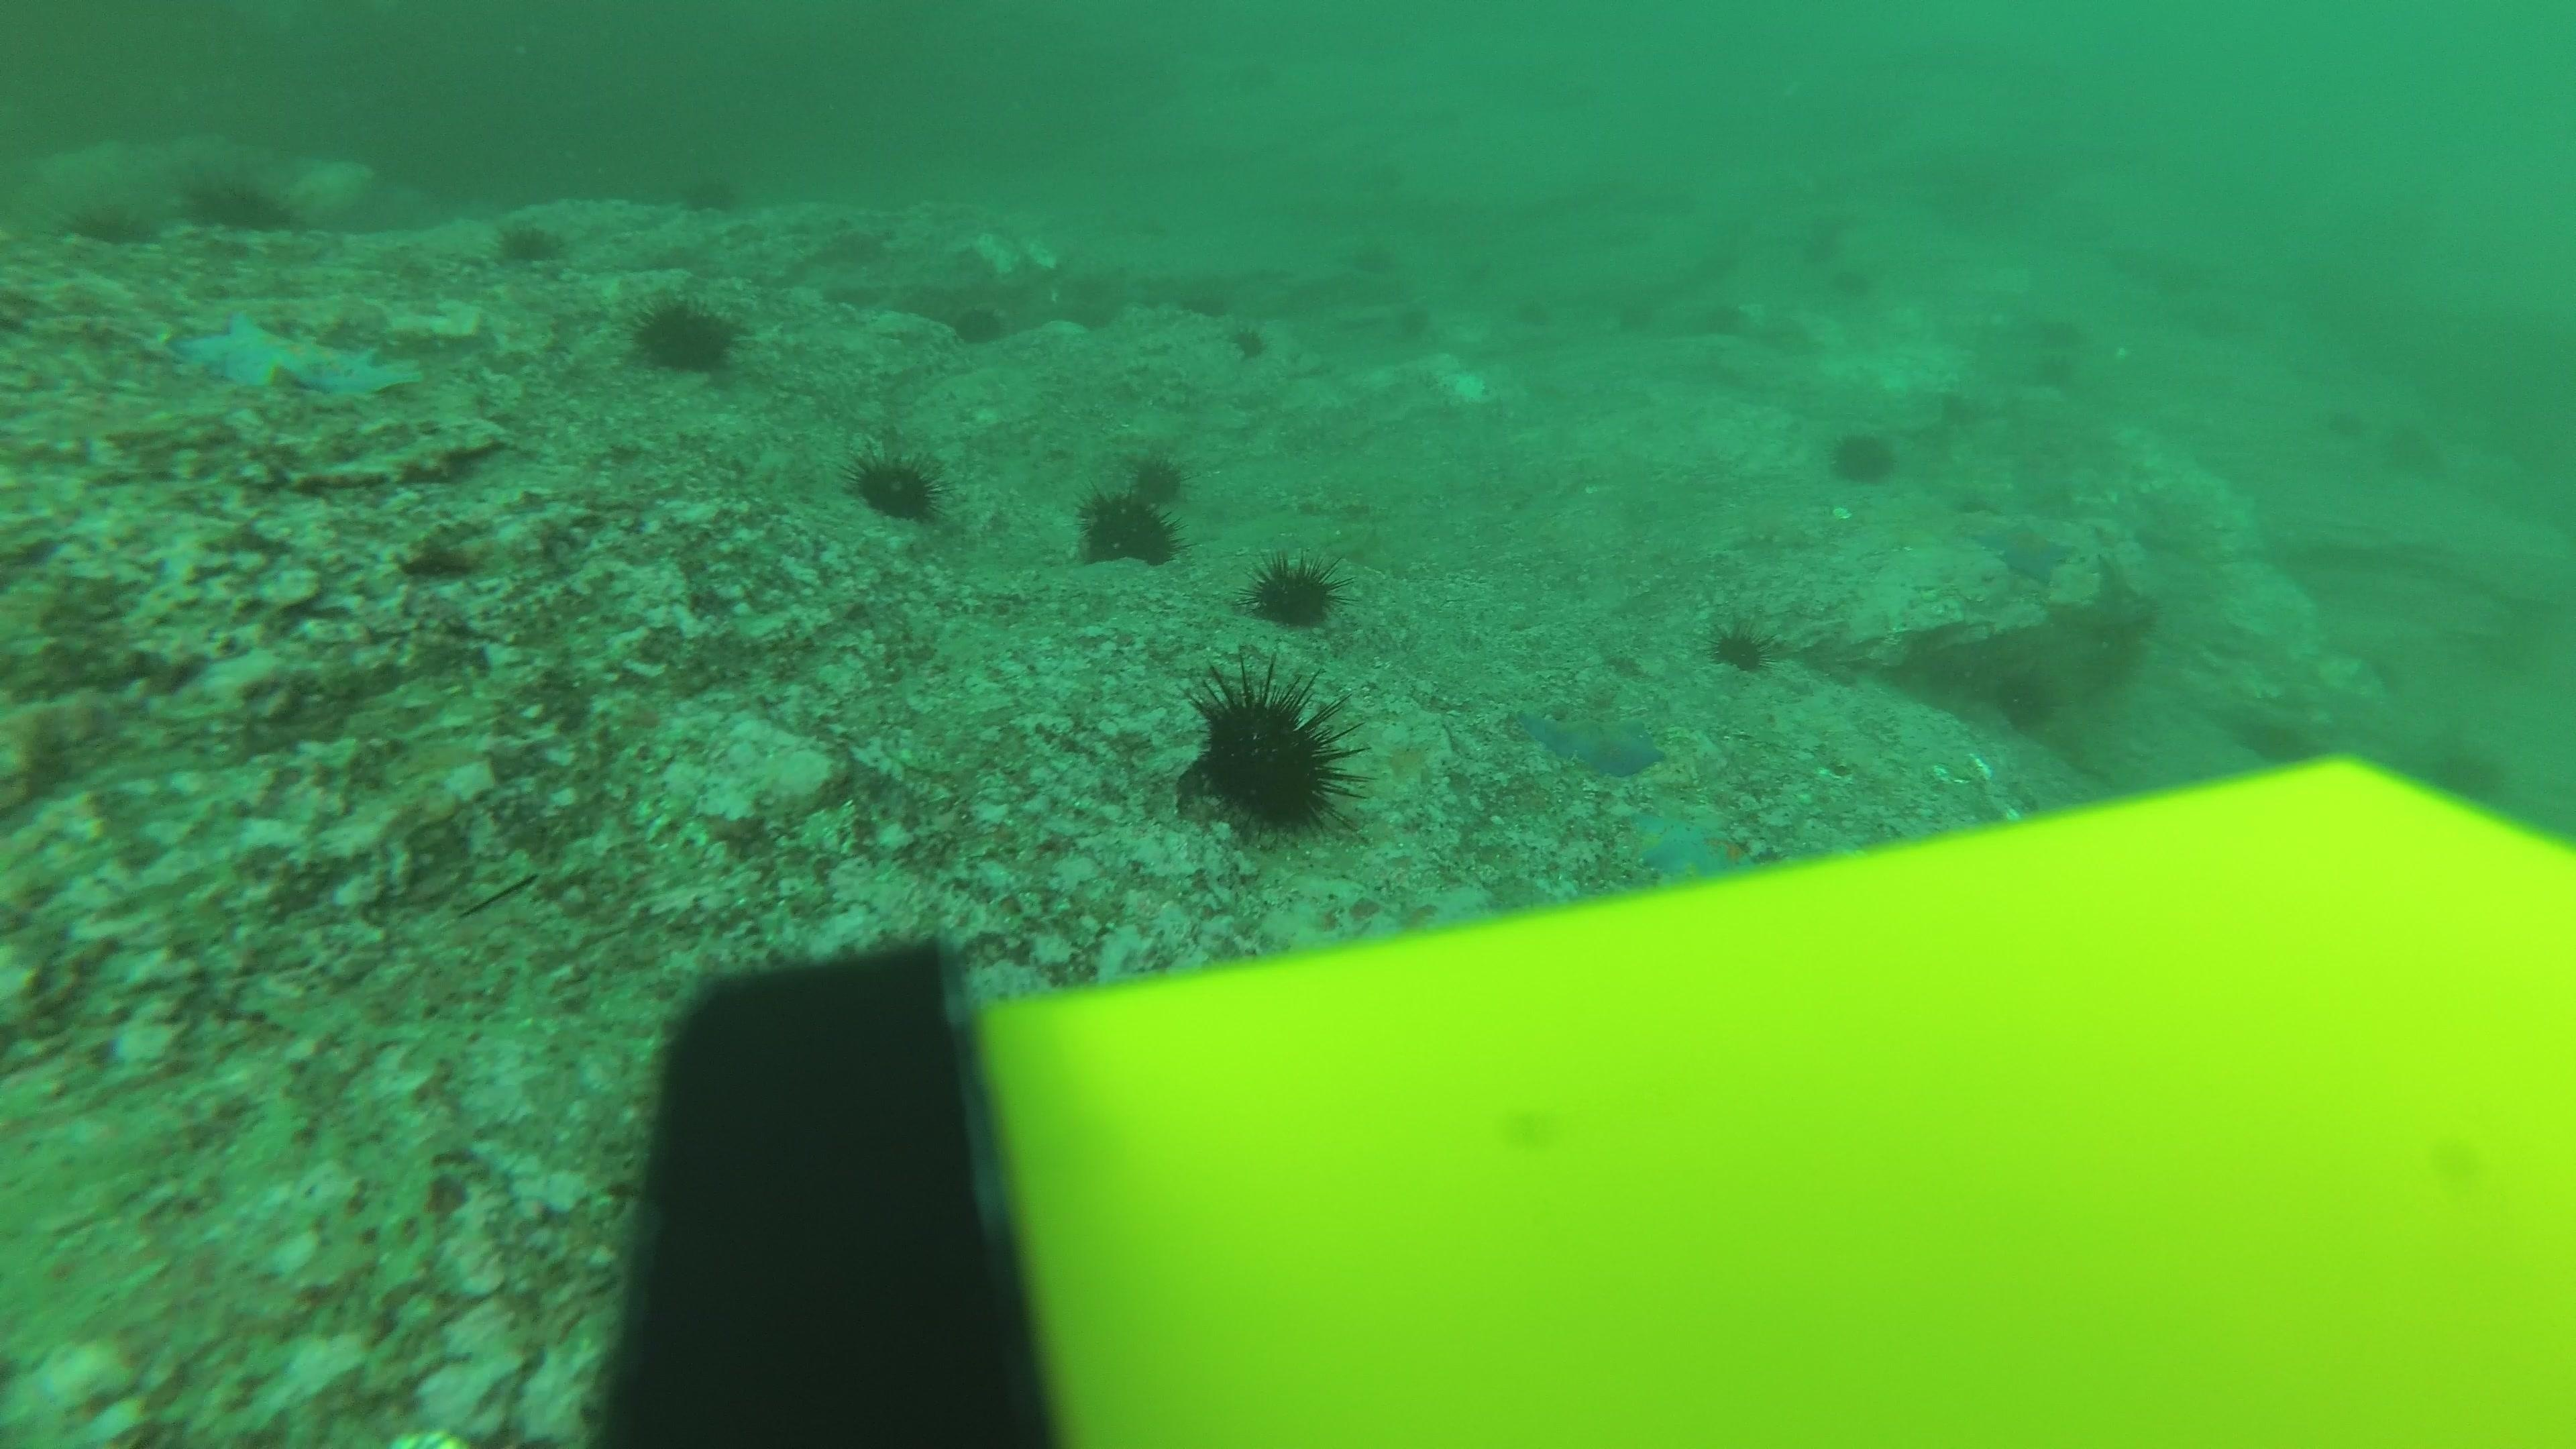echinus: (1182, 663, 1362, 840), (630, 288, 743, 379), (1076, 474, 1182, 570), (847, 444, 943, 525), (1246, 550, 1341, 630), (184, 168, 288, 234), (1824, 421, 1900, 488), (1118, 449, 1185, 525), (1674, 230, 1750, 297), (1989, 663, 2061, 732), (2314, 391, 2388, 458), (1690, 288, 1764, 356), (2024, 290, 2100, 356), (2015, 329, 2091, 395), (1812, 249, 1888, 315), (1601, 281, 1677, 347), (1592, 202, 1668, 267), (1626, 168, 1702, 234), (1778, 218, 1852, 283), (1497, 292, 1571, 357), (1376, 288, 1451, 354), (1345, 228, 1419, 294), (1355, 138, 1430, 203), (1113, 195, 1187, 260), (65, 193, 149, 248), (1706, 614, 1776, 674), (494, 216, 564, 269), (678, 165, 741, 216), (947, 297, 1008, 349), (1224, 318, 1270, 364)
starfish: (166, 303, 416, 409), (1513, 699, 1670, 780), (1962, 508, 2082, 586), (1631, 803, 1746, 878)
